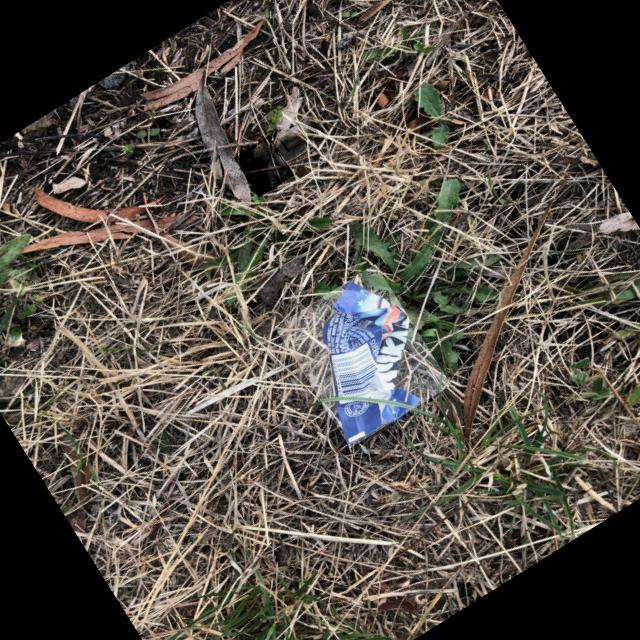Other plastic: (322, 281, 421, 445)
Plastic film: (246, 141, 291, 191), (278, 118, 317, 150)
